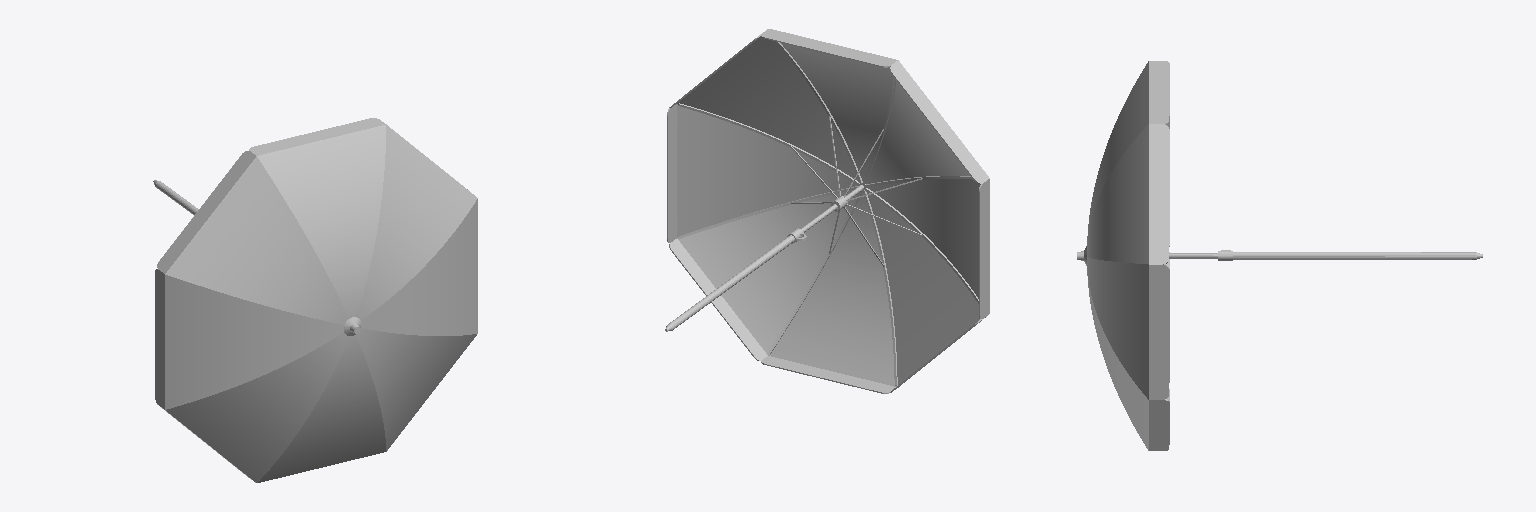
Rendered from tinker_4.obj.
3 views of the same model, side by side, from view 1: azimuth 30°, elevation 25°; view 2: azimuth 150°, elevation 25°; view 3: azimuth 270°, elevation 25° (orthographic).
Visible parts, largest first — view 1: obj_0; view 2: obj_0; view 3: obj_0.
Part boxes in pixels (bbox=[...]): obj_0: bbox=[153, 118, 477, 482]; obj_0: bbox=[665, 29, 989, 393]; obj_0: bbox=[1077, 61, 1482, 450].
Size of the model in its own units: 140 by 140 by 158.